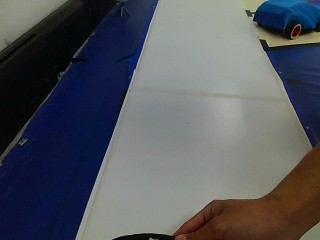car: (247, 0, 318, 42)
